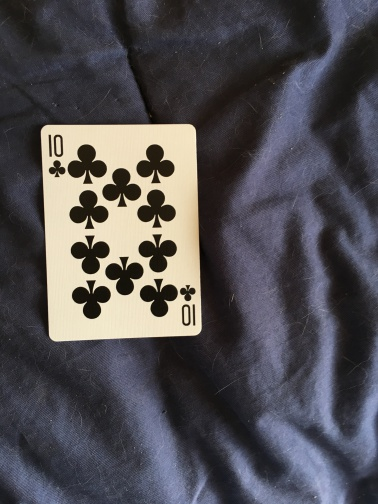ten: (40, 122, 205, 343)
